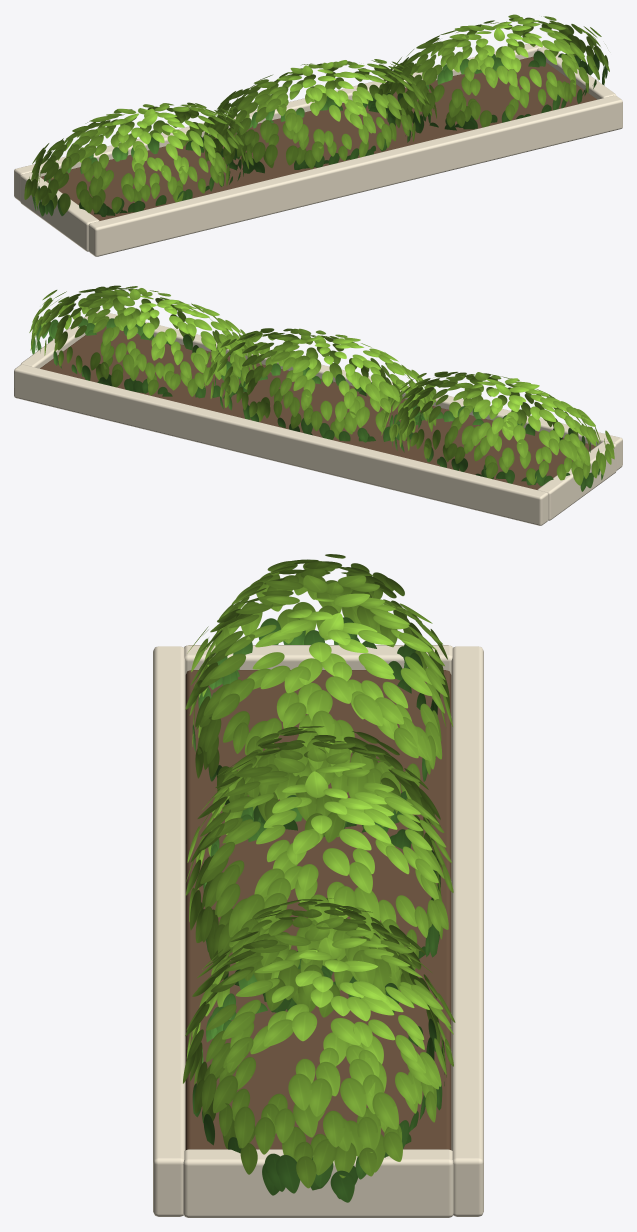
File: hedge_bed.glb
The picture shows the model from 3 angles, top to bottom: view 1: azimuth 30°, elevation 25°; view 2: azimuth 150°, elevation 25°; view 3: azimuth 270°, elevation 25°; orthographic projection. The views are drawn at different scales.
Parts seen in each view (by area): view 1: foliage, kerb; view 2: foliage, kerb; view 3: foliage, kerb.
Boxes of the visible parts, box(x1,y1,x2,y2) form: foliage: box(24, 14, 609, 216); kerb: box(14, 41, 622, 256); foliage: box(29, 285, 614, 491); kerb: box(14, 310, 622, 525); foliage: box(183, 554, 455, 1202); kerb: box(153, 645, 483, 1217).
Bounding box in the file's own units: 4.92 × 0.7699 × 1.22.
Materials: 4 (2 with a texture image).
